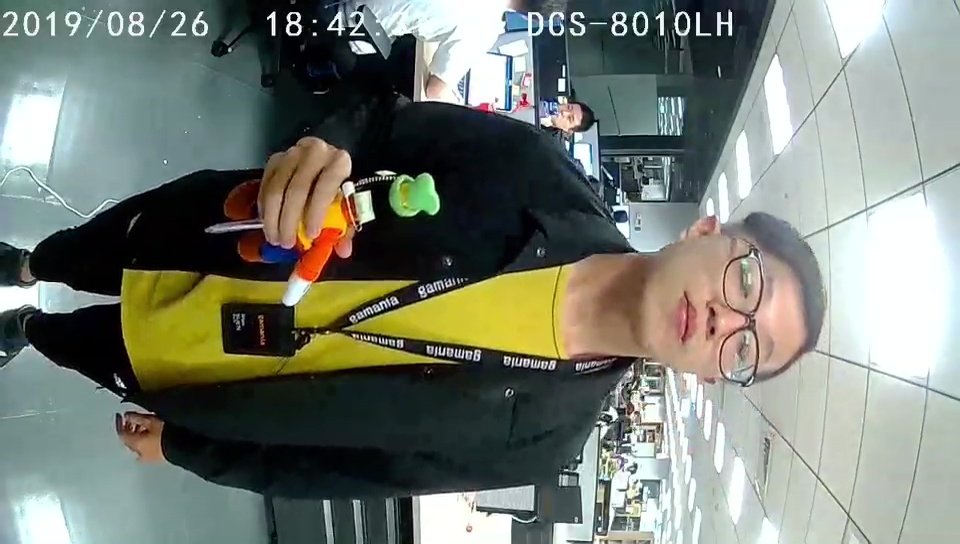goofy: (223, 168, 440, 308)
